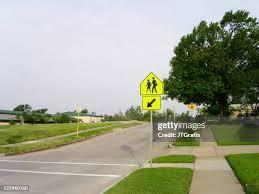Pedestrian Crossing: (140, 72, 164, 96)
